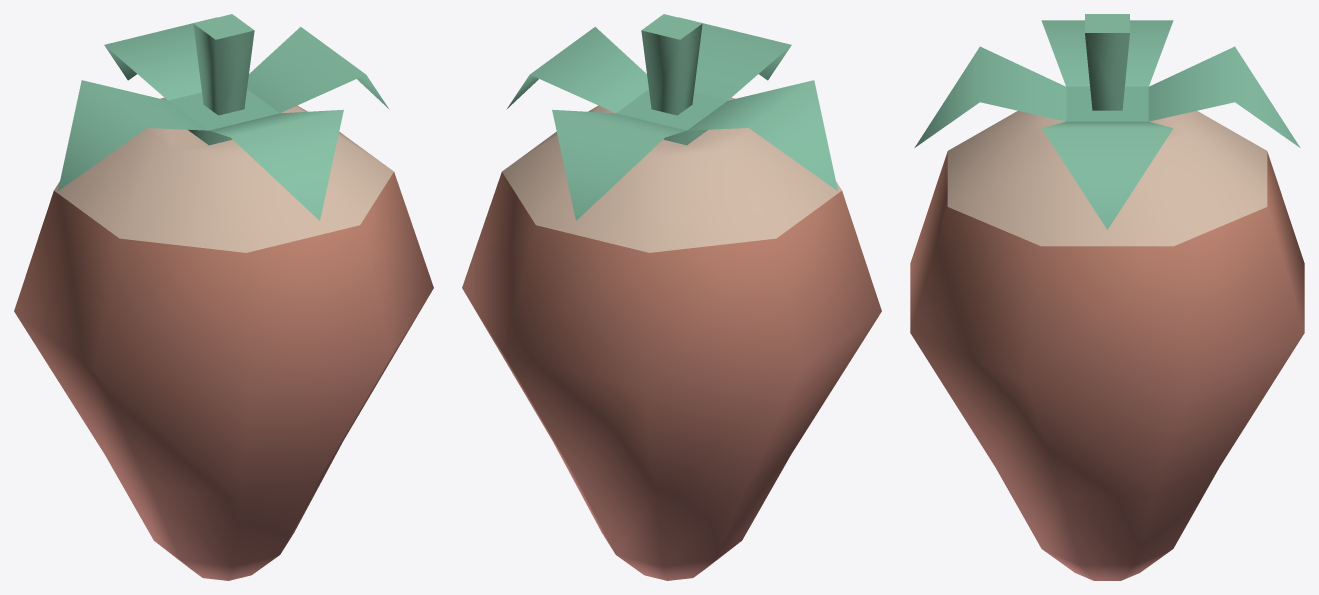
File: strawberry.glb
The picture shows the model from 3 angles, left to right: view 1: azimuth 30°, elevation 25°; view 2: azimuth 150°, elevation 25°; view 3: azimuth 270°, elevation 25°; orthographic projection.
Parts seen in each view (by area): view 1: strawberry; view 2: strawberry; view 3: strawberry.
Part boxes in pixels (bbox=[...]): strawberry: bbox=[14, 14, 433, 580]; strawberry: bbox=[462, 14, 881, 580]; strawberry: bbox=[910, 14, 1304, 580].
Size of the model in its own units: 0.1197 by 0.182 by 0.1197.
